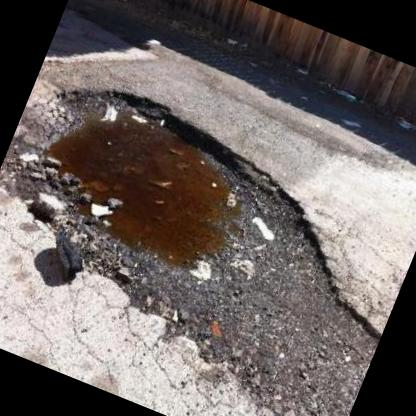pothole: (0, 58, 385, 416)
